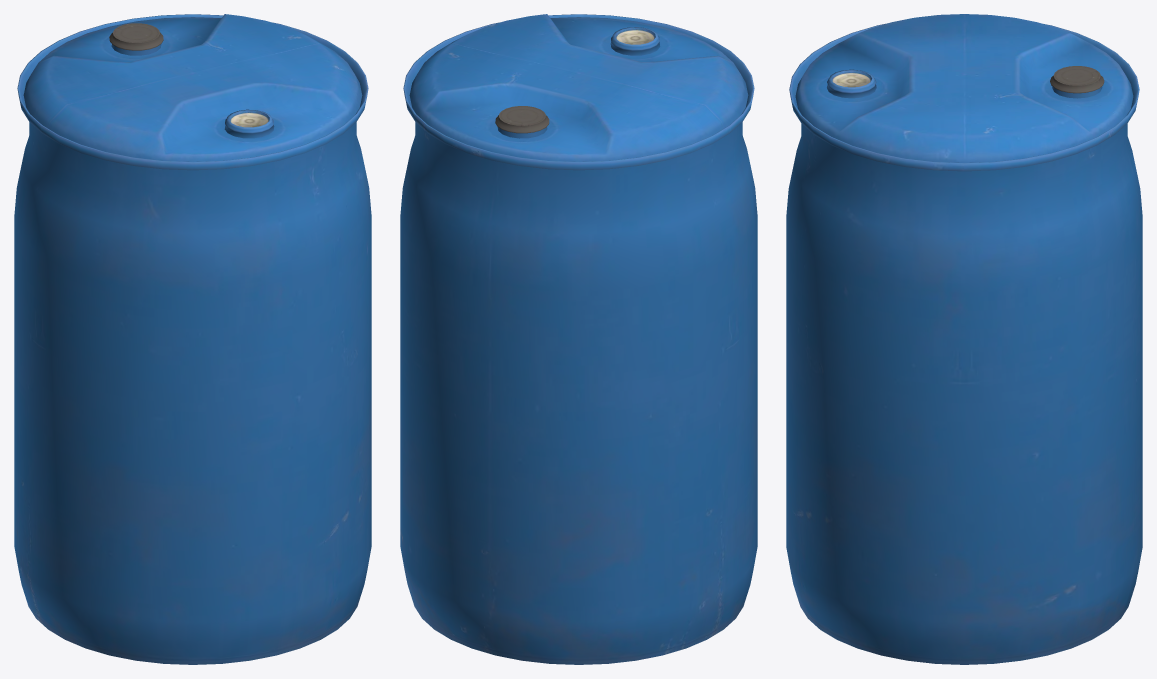
The model's file is barril.glb.
3 views of the same model, side by side, from view 1: azimuth 30°, elevation 25°; view 2: azimuth 150°, elevation 25°; view 3: azimuth 270°, elevation 25° (orthographic).
Parts seen in each view (by area): view 1: models\props\barrel_plastic_1.vmdl_c.unnamed_1; view 2: models\props\barrel_plastic_1.vmdl_c.unnamed_1; view 3: models\props\barrel_plastic_1.vmdl_c.unnamed_1.
Part boxes in pixels (x1,y1,x2,y2): models\props\barrel_plastic_1.vmdl_c.unnamed_1: (14, 14, 371, 664); models\props\barrel_plastic_1.vmdl_c.unnamed_1: (400, 14, 757, 664); models\props\barrel_plastic_1.vmdl_c.unnamed_1: (786, 14, 1142, 664).
Size of the model in its own units: 0.7216 by 1.16 by 0.7215.
Materials: 1 (1 with a texture image).
